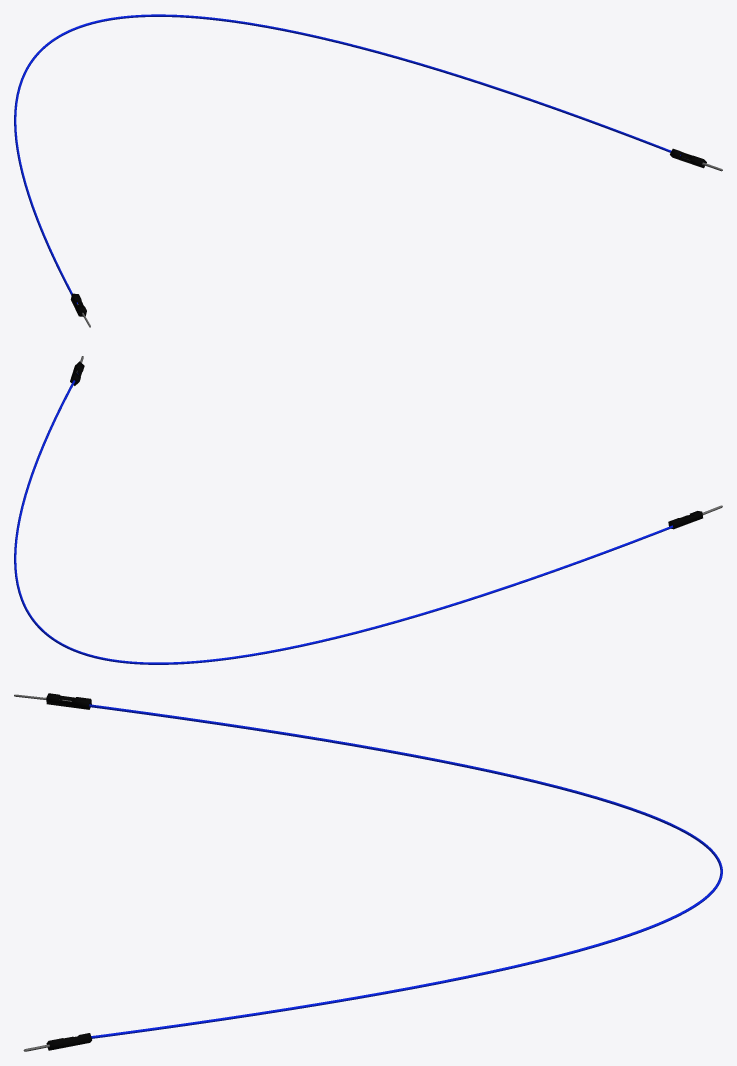
Rendered from JumperMM.fbx.
3 views of the same model, one above another, from view 1: azimuth 30°, elevation 25°; view 2: azimuth 150°, elevation 25°; view 3: azimuth 270°, elevation 25° (orthographic). The views are drawn at different scales.
Parts seen in each view (by area): view 1: JumperMM; view 2: JumperMM; view 3: JumperMM.
Boxes of the visible parts, left/top/right/bottom form: JumperMM: left=14, top=14, right=722, bottom=327; JumperMM: left=14, top=356, right=722, bottom=664; JumperMM: left=14, top=693, right=722, bottom=1051.
Size of the model in its own units: 524 by 8.41 by 444.
